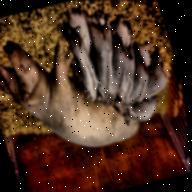boar: (0, 0, 189, 168)
